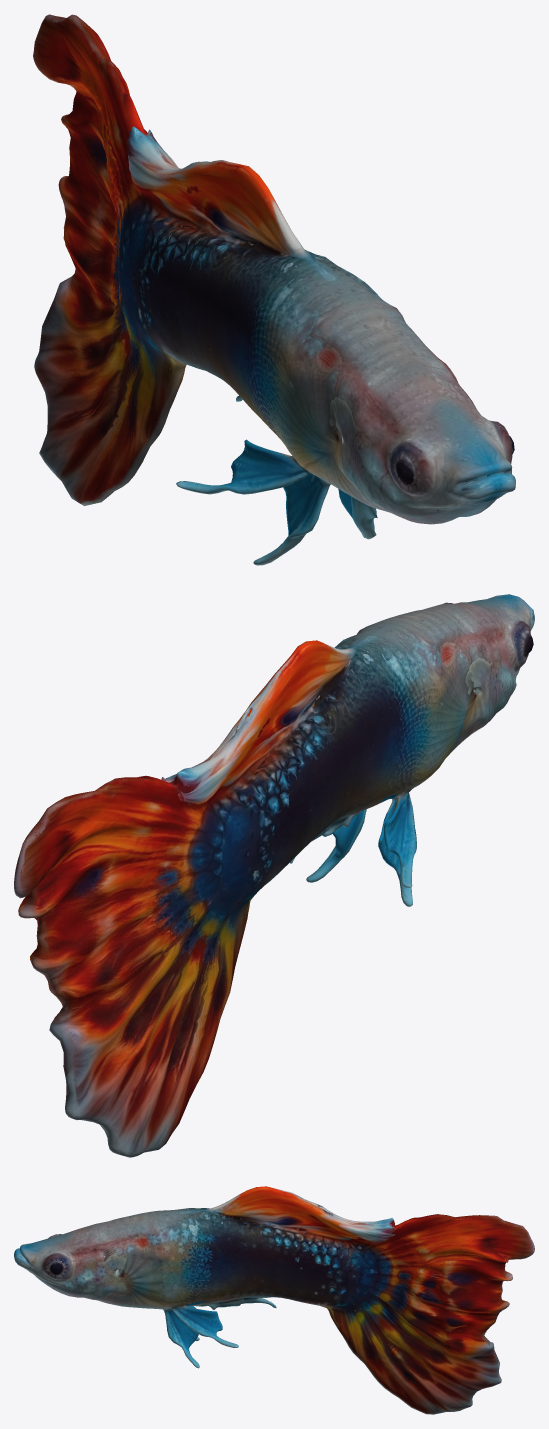
Rendered from dragon_head.glb.
The picture shows the model from 3 angles, top to bottom: view 1: azimuth 30°, elevation 25°; view 2: azimuth 150°, elevation 25°; view 3: azimuth 270°, elevation 25°; orthographic projection. The views are drawn at different scales.
Parts seen in each view (by area): view 1: DragonHead_tripo_mat_b3e2b321_0; view 2: DragonHead_tripo_mat_b3e2b321_0; view 3: DragonHead_tripo_mat_b3e2b321_0.
Part boxes in pixels (left/top/right/bottom): DragonHead_tripo_mat_b3e2b321_0: left=33, top=14, right=515, bottom=565; DragonHead_tripo_mat_b3e2b321_0: left=14, top=594, right=534, bottom=1157; DragonHead_tripo_mat_b3e2b321_0: left=14, top=1186, right=534, bottom=1414.
Size of the model in its own units: 0.0225 by 0.0495 by 0.1025.
1 material, 1 textured.
